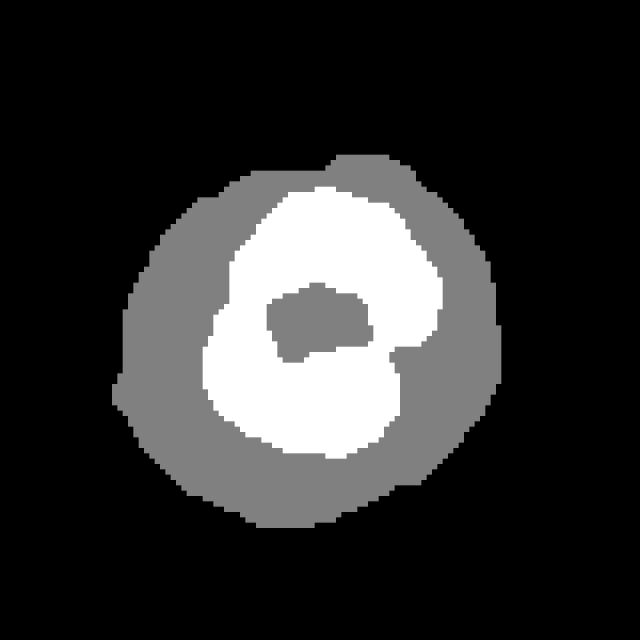WBC: (85, 150, 528, 534)
